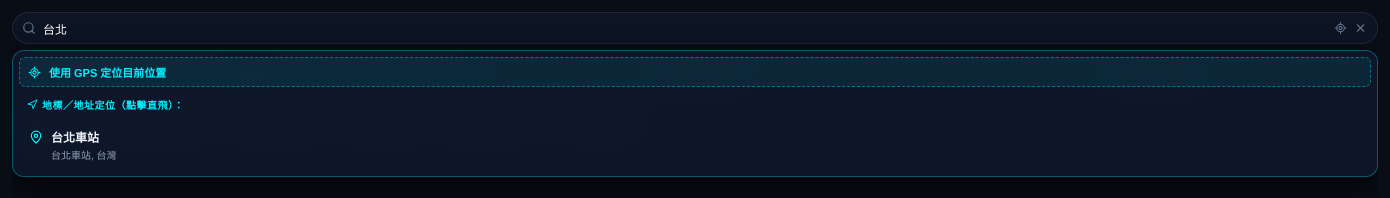
Test: TonightFilter › Geocoding Interactions › opens dropdown on focus if there are suggestions
The width and height of the screenshot is (1390, 198).
Expected: the text "台北車站" is shown, x1=51 y1=131 x2=99 y2=145
// Close it first with Escape
Press Escape in the field with placeholder "搜尋活動、商圈或地址 (如: 師大、台北101)...", box x1=12 y1=12 x2=1378 y2=44
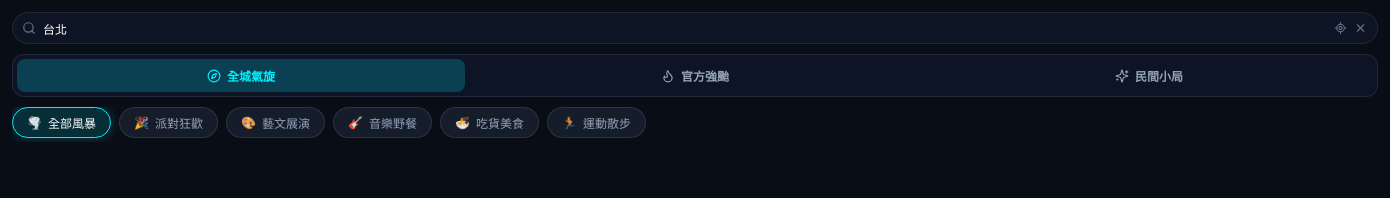
Now the button "台北車站" is gone
// Focus again to open
Focus the field with placeholder "搜尋活動、商圈或地址 (如: 師大、台北101)...". click: (695, 28)
box: x1=12 y1=12 x2=1378 y2=44
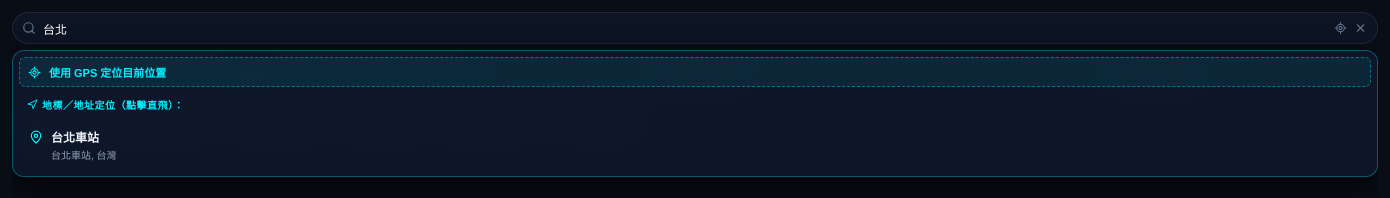
Now the text "台北車站" is shown, box x1=51 y1=131 x2=99 y2=145
